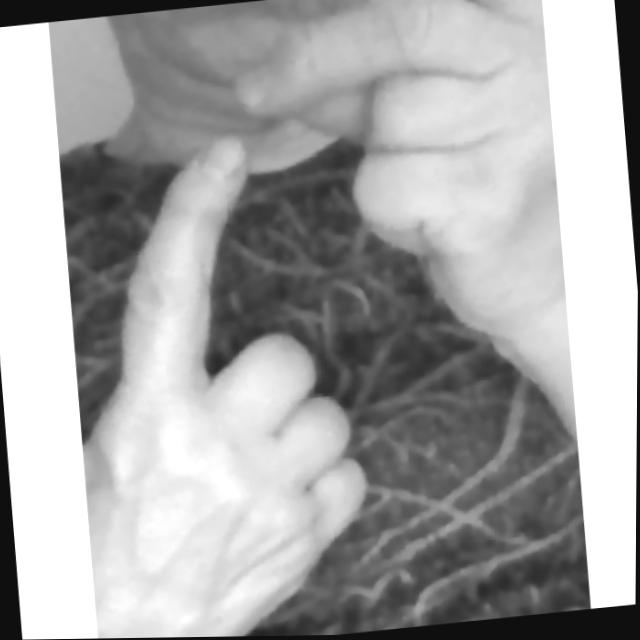I-: (41, 0, 593, 639)
